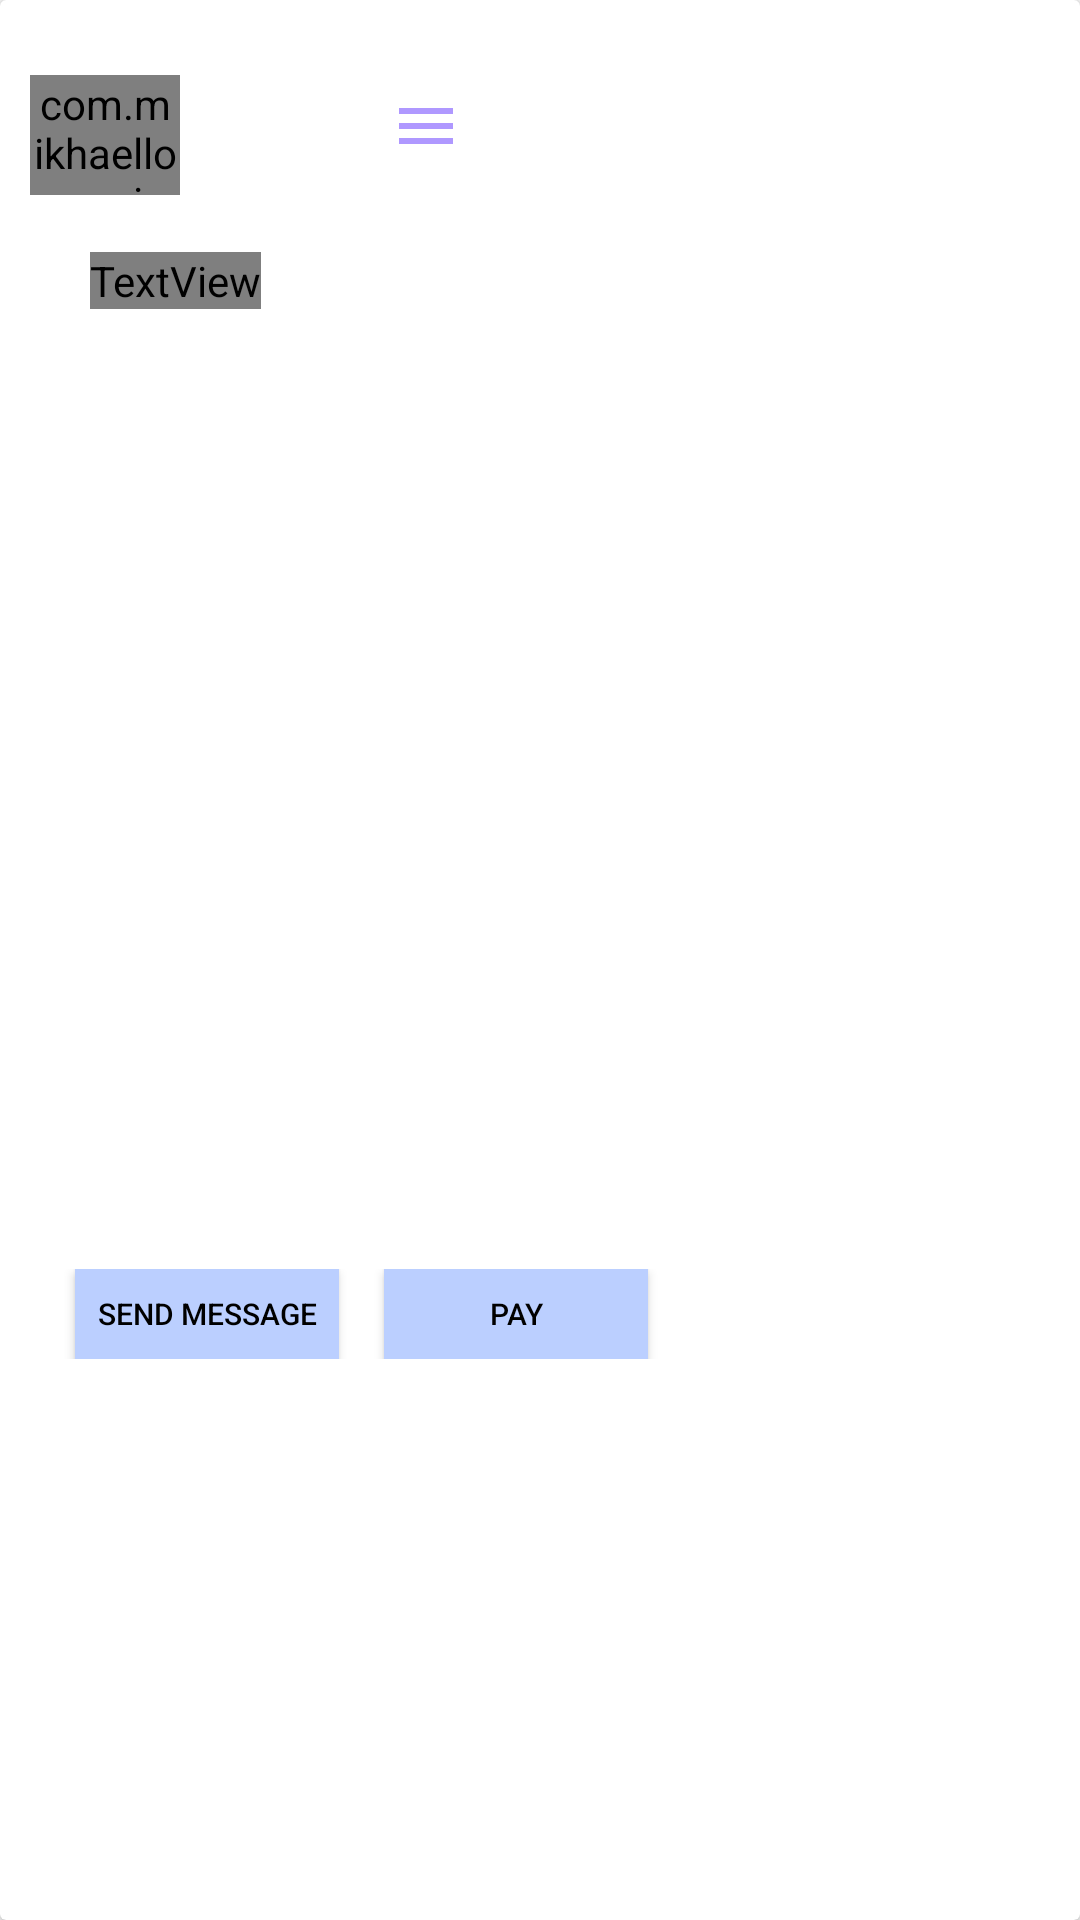

Icons on this 1080 × 1920 Android screen, each with the point to tap as (x=x, y=y):
menu: (x=426, y=126)
